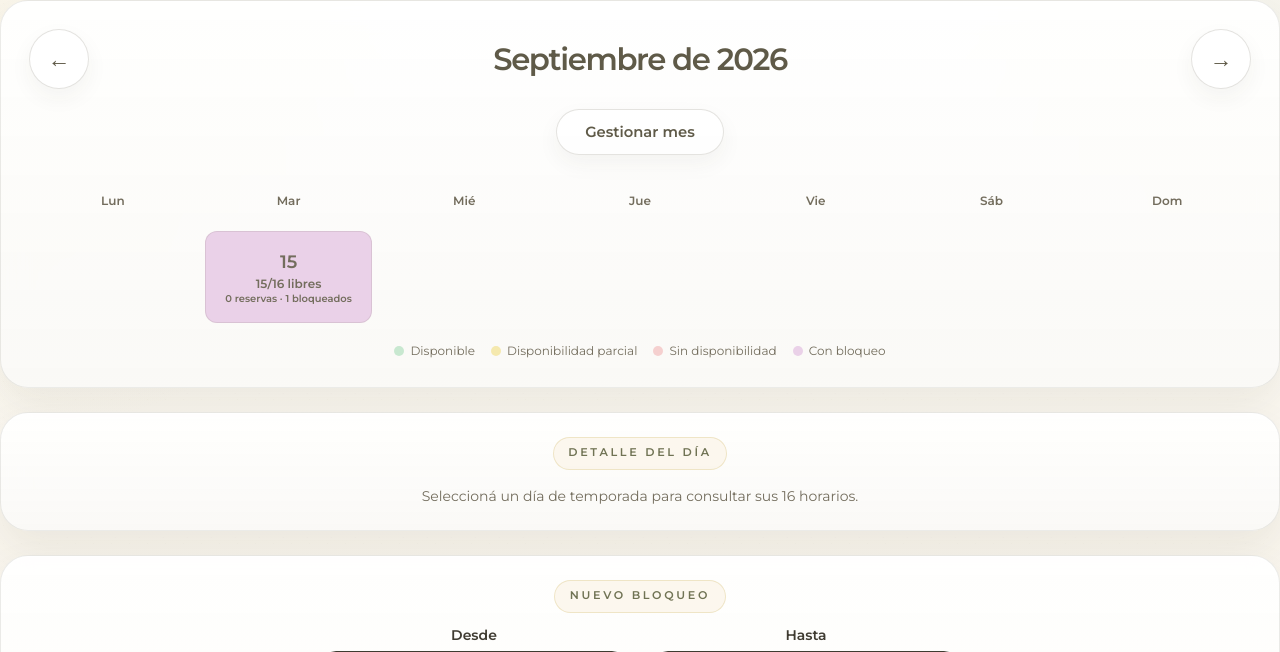
Scenario: AdminAvailabilityManager › alterna bloqueo y disponibilidad, actualiza contadores y evita peticiones duplicadas
The image size is (1280, 652).
Click the button with aria-label "15 de septiembre" at (289, 277), box [205,231,372,323]
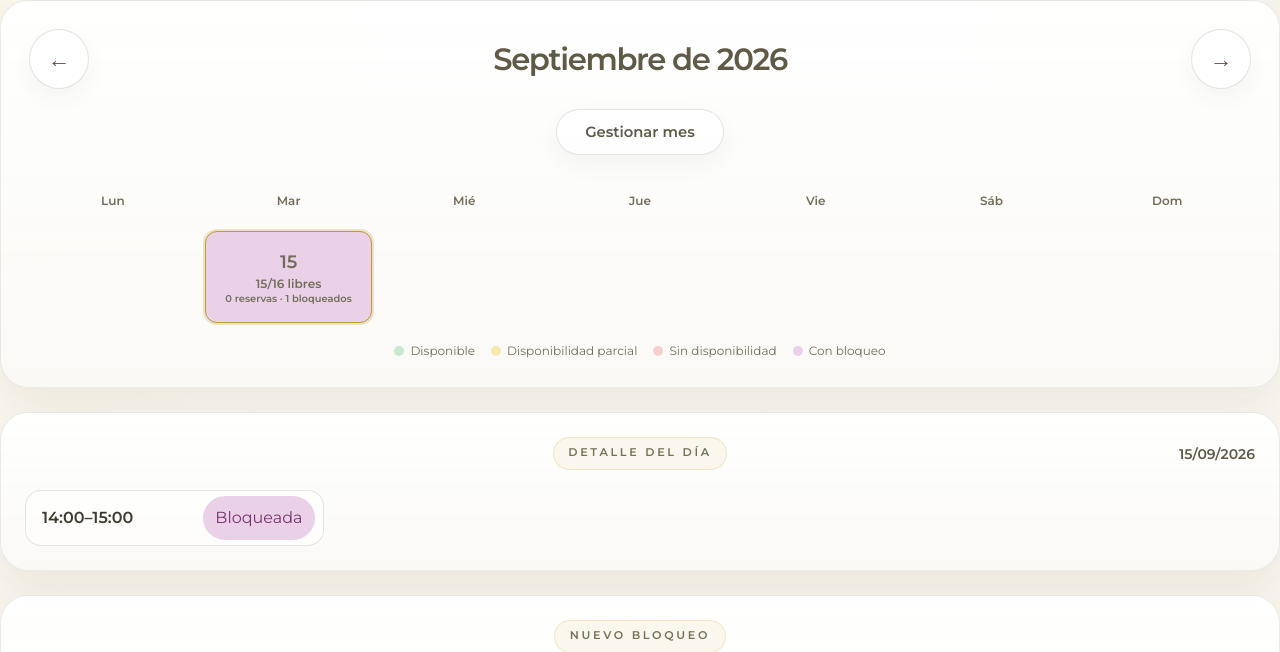
Click the button with aria-label "Habilitar horario 14:00 a 15:00" at (259, 518), box [203,496,314,540]
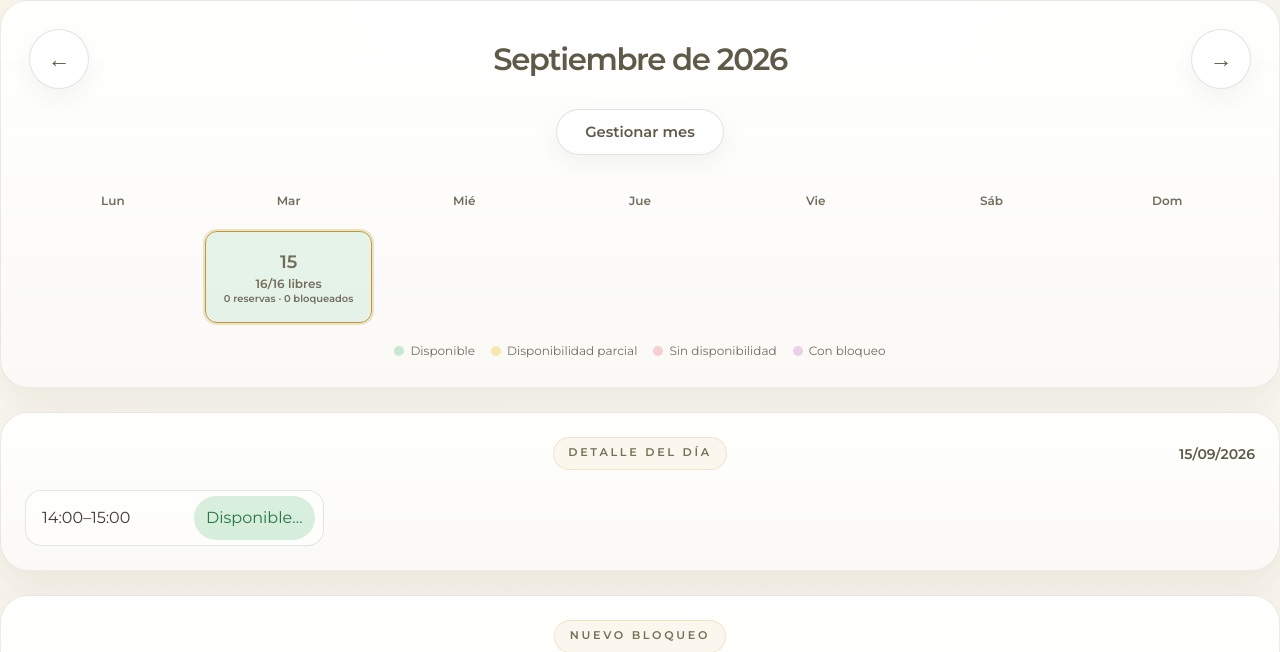
Click the button named "Habilitar horario 14:00 a 15:00" at (254, 518), box [194,496,314,540]
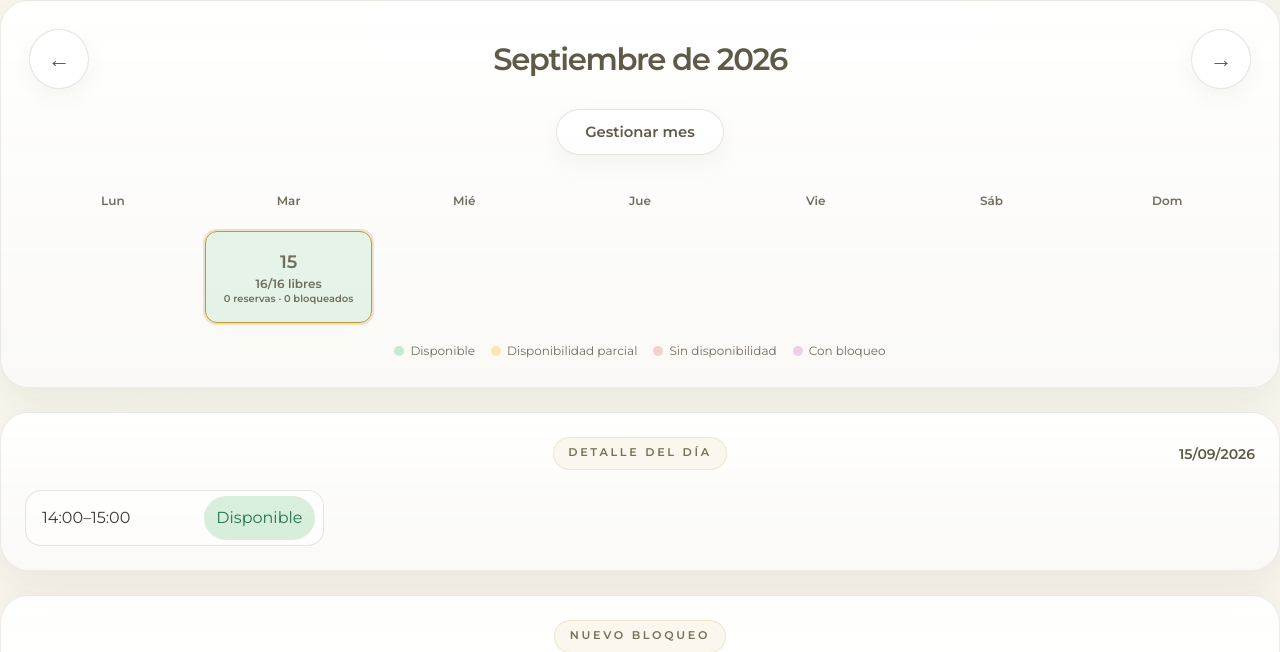
Expected: the text "16/16 libres" is shown, [256,276,322,292]
Expected: the button with aria-label "Bloquear horario 14:00 a 15:00" is enabled
Click the button with aria-label "Bloquear horario 14:00 a 15:00" at (259, 518), box [204,496,314,540]
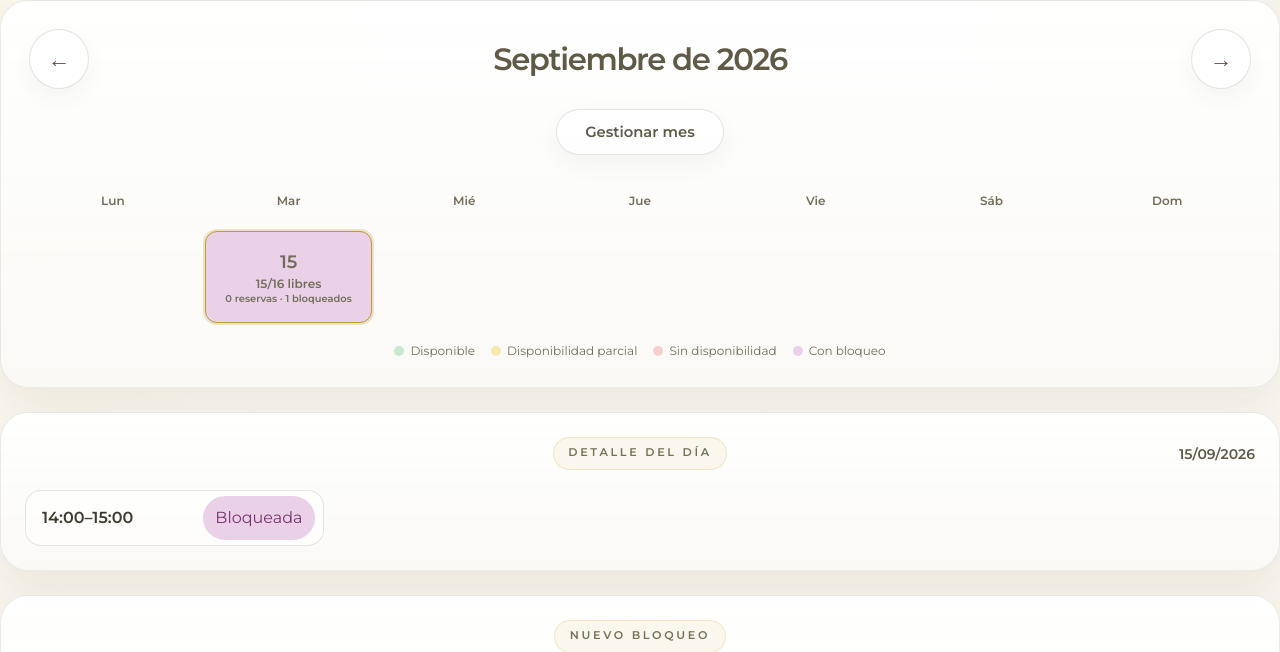
Expected: the text "15/16 libres" is shown, [256,276,321,292]
Expected: the button with aria-label "Habilitar horario 14:00 a 15:00" is shown, [203,496,314,540]
